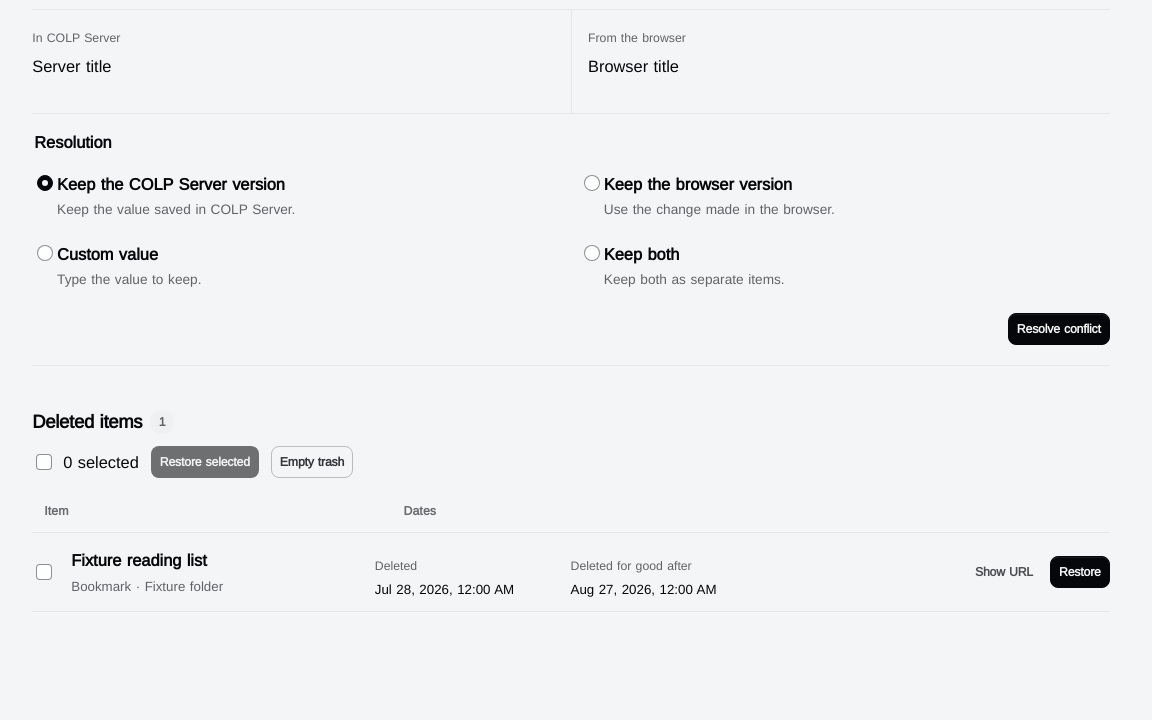
Test: KNS-11 Sync Center trash › reveals URL only from owner detail and keeps it as text
(page scrolled)
Click the button "Show URL": (1004, 572) x1=966 y1=556 x2=1042 y2=588
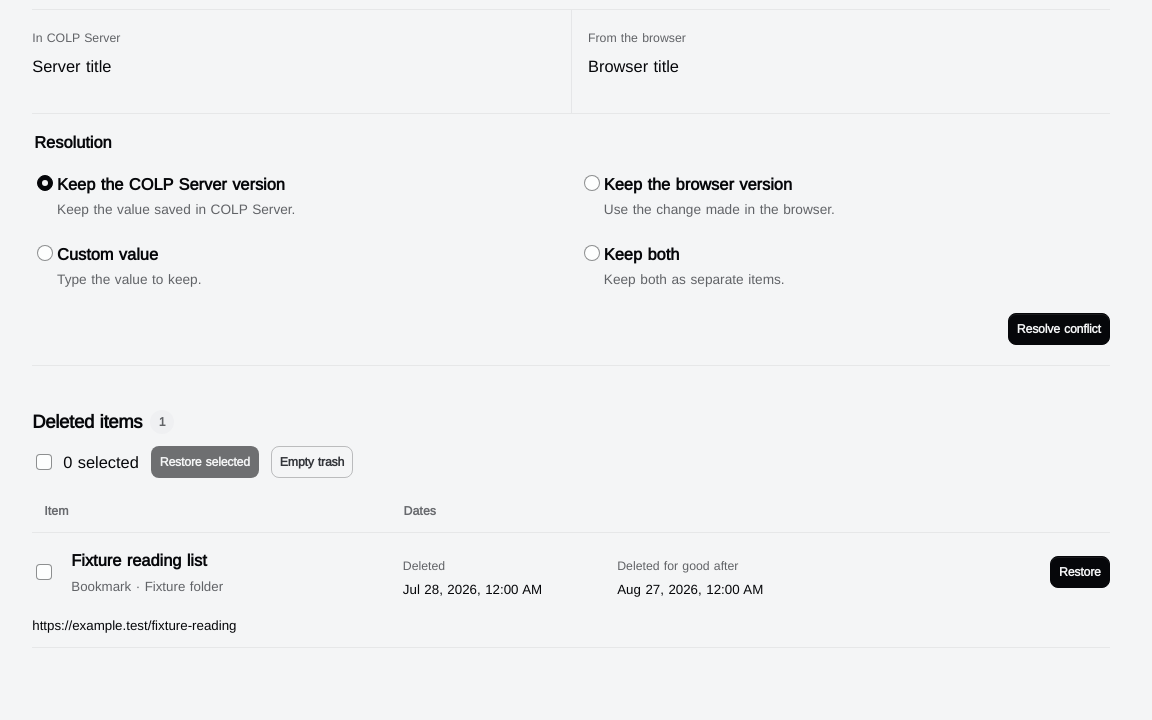
Check: the text "https://example.test/fixture-reading" is shown, box x1=32 y1=617 x2=236 y2=633
